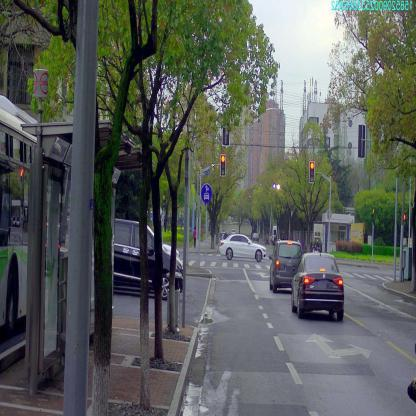traffic-light: (220, 154, 226, 176), (310, 161, 314, 183)
